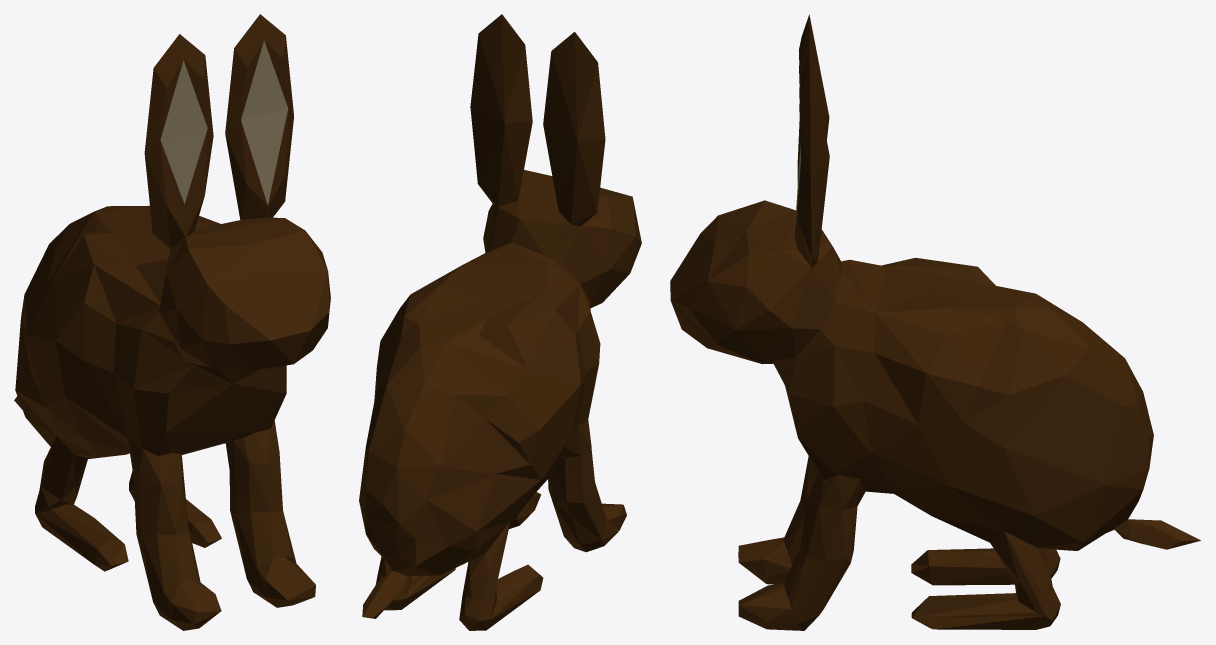
The model's file is Hare.fbx.
3 renders of one model, left to right at view 1: azimuth 30°, elevation 25°; view 2: azimuth 150°, elevation 25°; view 3: azimuth 270°, elevation 25°, orthographic. The views are drawn at different scales.
Visible parts, largest first — view 1: Hare; view 2: Hare; view 3: Hare.
Boxes of the visible parts, box(x1,y1,x2,y2) form: Hare: box(14, 14, 330, 630); Hare: box(359, 14, 641, 630); Hare: box(670, 14, 1200, 630).
Size of the model in its own units: 34.84 by 96.45 by 80.79.
